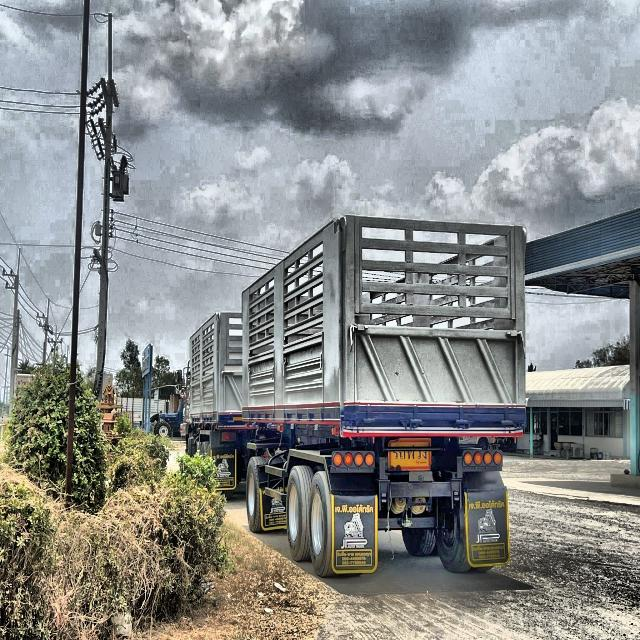trailer: (178, 203, 536, 578)
